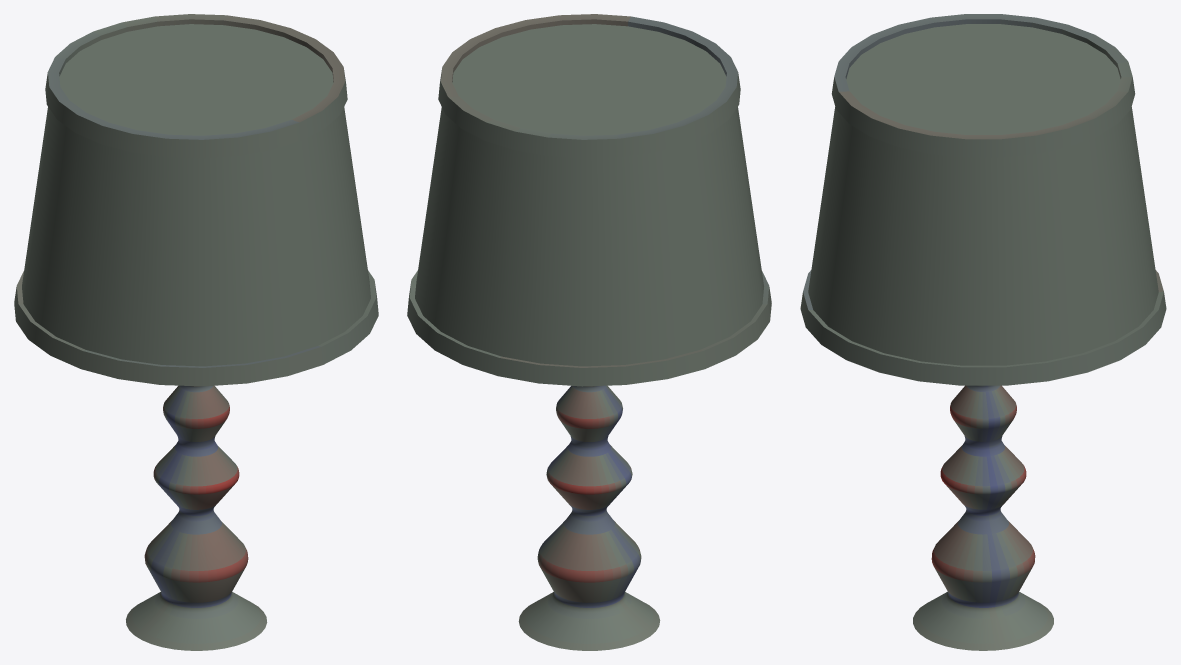
Rendered from bedside light 03.FBX.
3 views of the same model, side by side, from view 1: azimuth 30°, elevation 25°; view 2: azimuth 150°, elevation 25°; view 3: azimuth 270°, elevation 25° (orthographic).
Visible parts, largest first — view 1: bedside light 03; view 2: bedside light 03; view 3: bedside light 03.
Boxes of the visible parts, <box> form: bedside light 03: <box>14,14,378,650</box>; bedside light 03: <box>407,14,771,650</box>; bedside light 03: <box>800,14,1166,650</box>.
Size of the model in its own units: 42.09 by 69.58 by 42.4.
